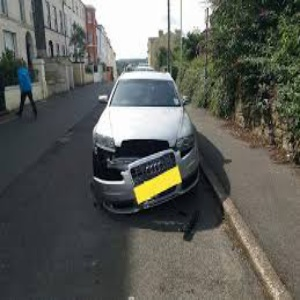bumper: (86, 153, 139, 216)
